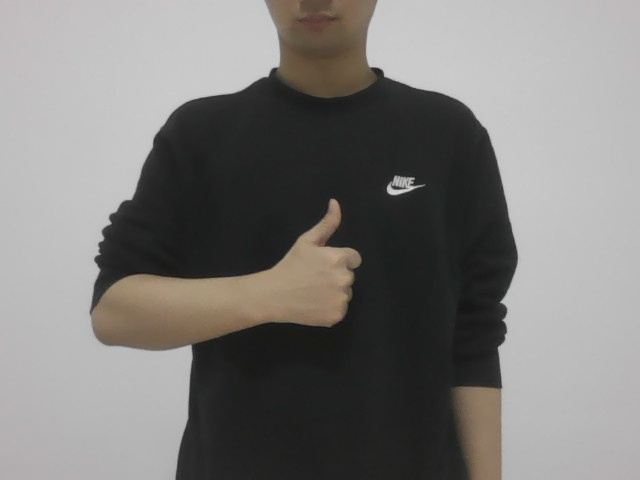good: (269, 177, 371, 351)
